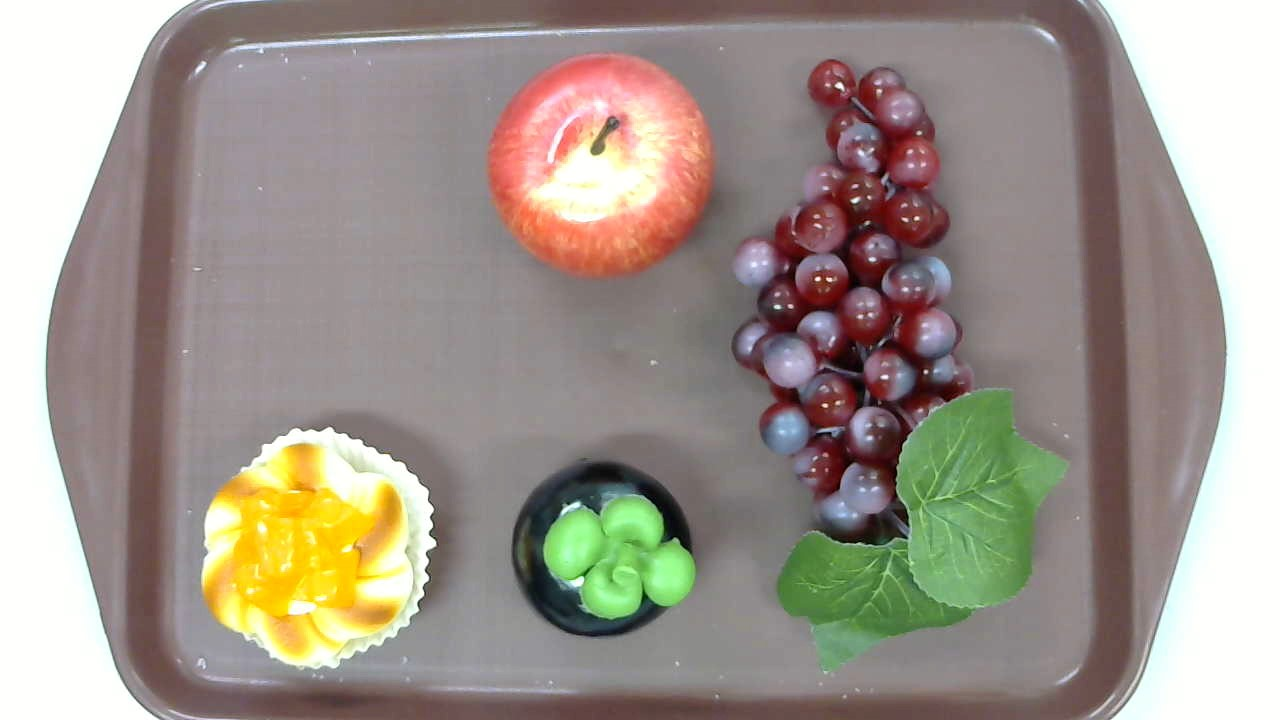grape: (732, 57, 1066, 677)
mango tart: (200, 425, 437, 669)
mangosteen: (512, 458, 697, 638)
red apple: (486, 50, 717, 282)
